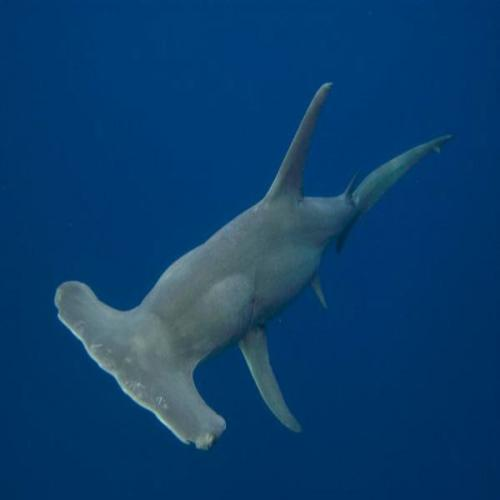shark-endangered: (56, 81, 451, 453)
